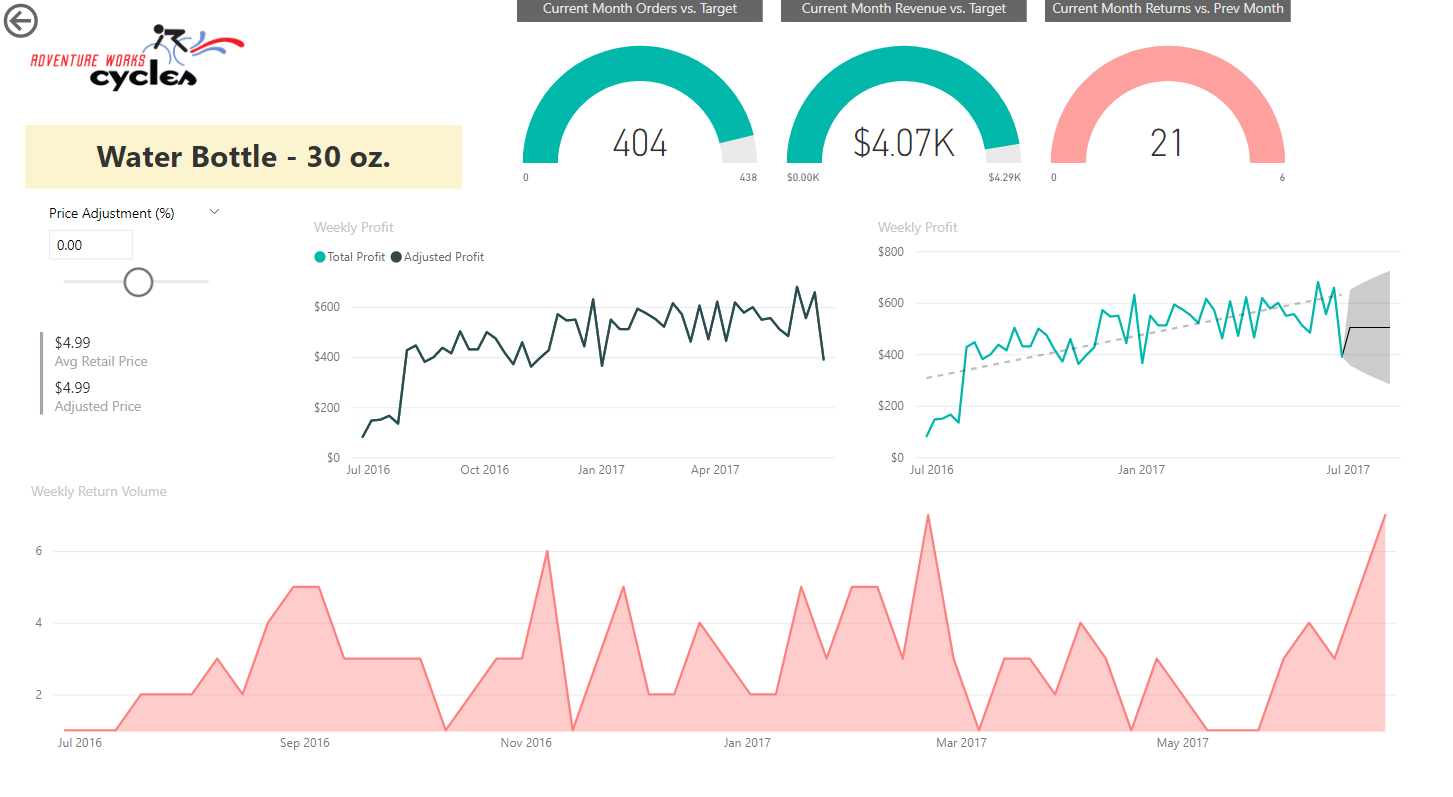

The page's visual inventory and layout, read from the dashboard file:
{"tool":"powerbi","page":{"name":"Product Detail","canvas":[1280,720],"ordinal":1},"visuals":[{"type":"image","box":[24,8,200,88],"z":0},{"type":"lineChart","title":"Weekly Profit","fields":{"Y":["AW_Sales.Total Profit"],"Category":["AW_Calendar_Lookup.Start of Week"]},"box":[768,192,480,240],"z":1000},{"type":"areaChart","title":"Weekly Return Volume","fields":{"Category":["AW_Calendar_Lookup.Start of Week"],"Y":["AW_Returns.Total Returns"]},"box":[24,424,1224,248],"z":2000},{"type":"gauge","title":"Current Month Orders vs. Target","fields":{"Y":["AW_Sales.Total Orders"],"MaxValue":["AW_Sales.Order Target"]},"box":[456,0,216,192],"z":3000},{"type":"gauge","title":"Current Month Returns vs. Prev Month","fields":{"MaxValue":["AW_Returns.Prev Month Returns"],"Y":["AW_Returns.Total Returns"]},"box":[920,0,216,192],"z":4000},{"type":"gauge","title":"Current Month Revenue vs. Target","fields":{"MaxValue":["AW_Sales.Revenue Target"],"Y":["AW_Sales.Total Revenue"]},"box":[688,0,216,192],"z":5000},{"type":"card","fields":{"Values":["Min(AW_Product_Lookup.ProductName)"]},"box":[24,112,384,56],"z":6000},{"type":"actionButton","box":[0,0,100,40],"z":7000},{"type":"slicer","fields":{"Values":["Price Adjustment (%).Price Adjustment (%)"]},"box":[32,176,176,112],"z":8000},{"type":"multiRowCard","fields":{"Values":["AW_Product_Lookup.Avg Retail Price","AW_Product_Lookup.Adjusted Price"]},"box":[32,288,176,144],"z":9000},{"type":"lineChart","title":"Weekly Profit","fields":{"Category":["AW_Calendar_Lookup.Start of Week"],"Y":["AW_Sales.Total Profit","AW_Sales.Adjusted Profit"]},"box":[272,192,480,240],"z":10000}]}

Visuals, with their boxes in screenshot pixels (x1, y1, x2, y2), scaled from the page's 1280x720 canvas onto the 1453x797 screenshot:
image: <region>27, 9, 254, 106</region>
"Weekly Profit" lineChart: <region>872, 213, 1417, 478</region>
"Weekly Return Volume" areaChart: <region>27, 469, 1417, 744</region>
"Current Month Orders vs. Target" gauge: <region>518, 0, 763, 213</region>
"Current Month Returns vs. Prev Month" gauge: <region>1044, 0, 1290, 213</region>
"Current Month Revenue vs. Target" gauge: <region>781, 0, 1026, 213</region>
card - Min(AW_Product_Lookup.ProductName): <region>27, 124, 463, 186</region>
actionButton: <region>0, 0, 114, 44</region>
slicer - Price Adjustment (%).Price Adjustment (%): <region>36, 195, 236, 319</region>
multiRowCard - AW_Product_Lookup.Avg Retail Price x AW_Product_Lookup.Adjusted Price: <region>36, 319, 236, 478</region>
"Weekly Profit" lineChart: <region>309, 213, 854, 478</region>
